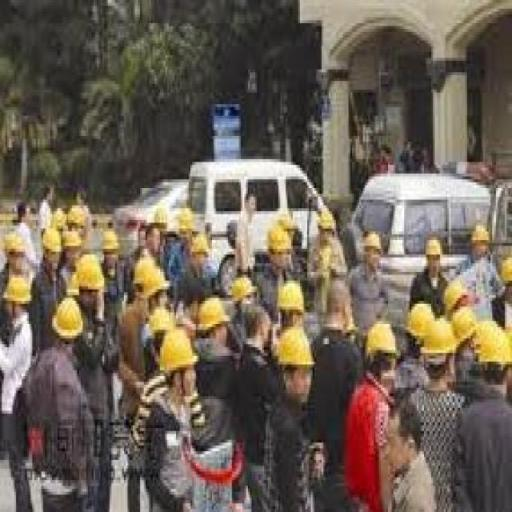helmet: (128, 252, 170, 304), (156, 327, 200, 376), (275, 324, 318, 373), (361, 315, 401, 367), (47, 292, 86, 344), (192, 292, 234, 338), (402, 298, 438, 347), (70, 252, 108, 298), (262, 211, 296, 260), (0, 272, 36, 312), (274, 278, 308, 318), (442, 272, 472, 312), (142, 197, 171, 234), (467, 217, 496, 254), (418, 228, 446, 266), (2, 226, 30, 263), (230, 272, 259, 304), (359, 226, 385, 258), (40, 223, 62, 260), (174, 202, 198, 234), (99, 223, 122, 255), (314, 202, 336, 234), (190, 228, 212, 258), (59, 228, 85, 252)
vest: (27, 353, 90, 480)
